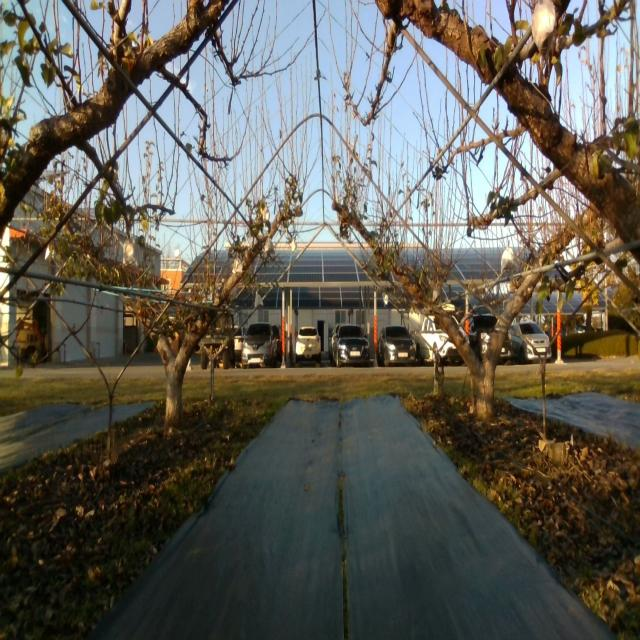pearbags: (531, 0, 556, 61), (122, 237, 136, 267), (502, 246, 514, 274), (232, 256, 243, 274)
